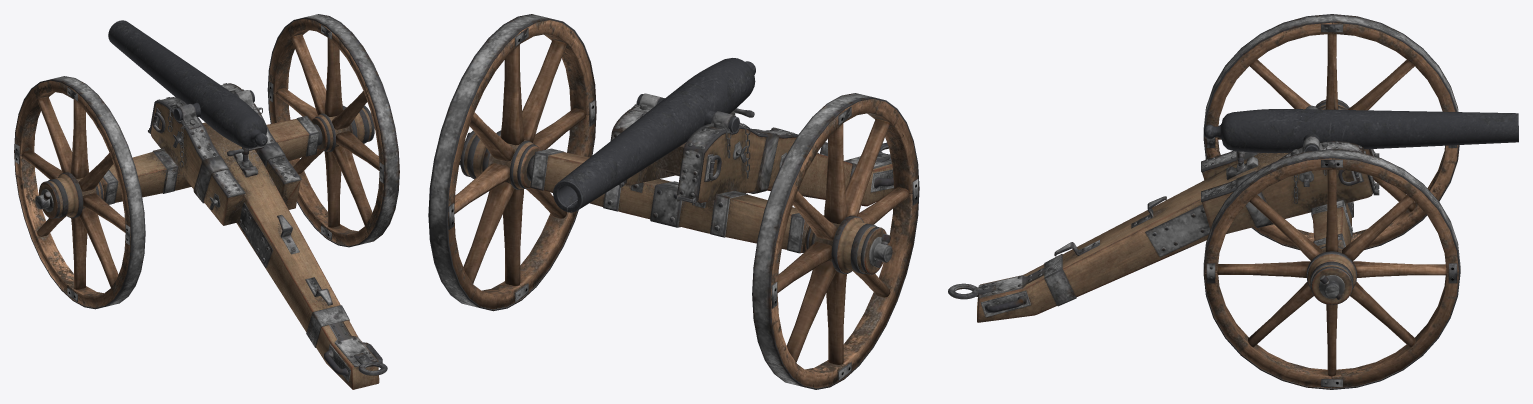
The model's file is canon_de_campana.glb.
3 views of the same model, side by side, from view 1: azimuth 30°, elevation 25°; view 2: azimuth 150°, elevation 25°; view 3: azimuth 270°, elevation 25° (orthographic). The views are drawn at different scales.
Visible parts, largest first — view 1: Cylinder.014 (×6); view 2: Cylinder.014 (×6); view 3: Cylinder.014 (×6).
Boxes of the visible parts, left/top/right/bottom form: Cylinder.014 (×6): left=14, top=14, right=399, bottom=389; Cylinder.014 (×6): left=428, top=14, right=919, bottom=389; Cylinder.014 (×6): left=948, top=14, right=1518, bottom=389.
Bounding box in the file's own units: 1.49 × 0.9003 × 2.
Materials: 6 (6 with a texture image).
